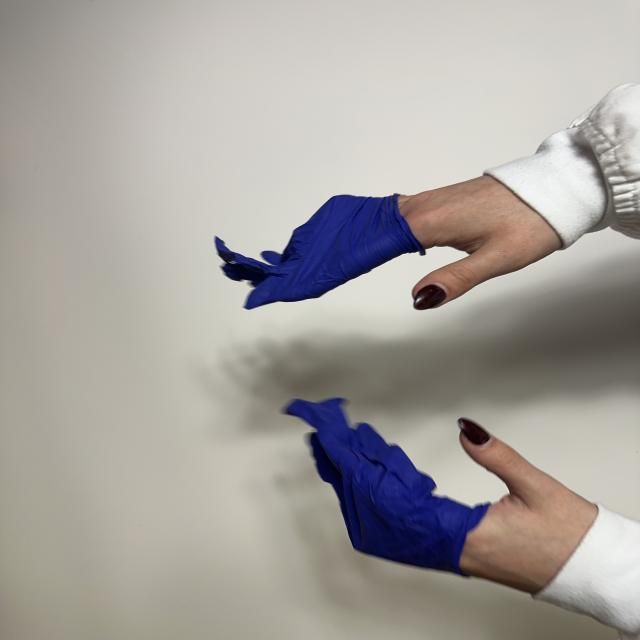glove_partial: (286, 399, 596, 594), (216, 176, 560, 309)
